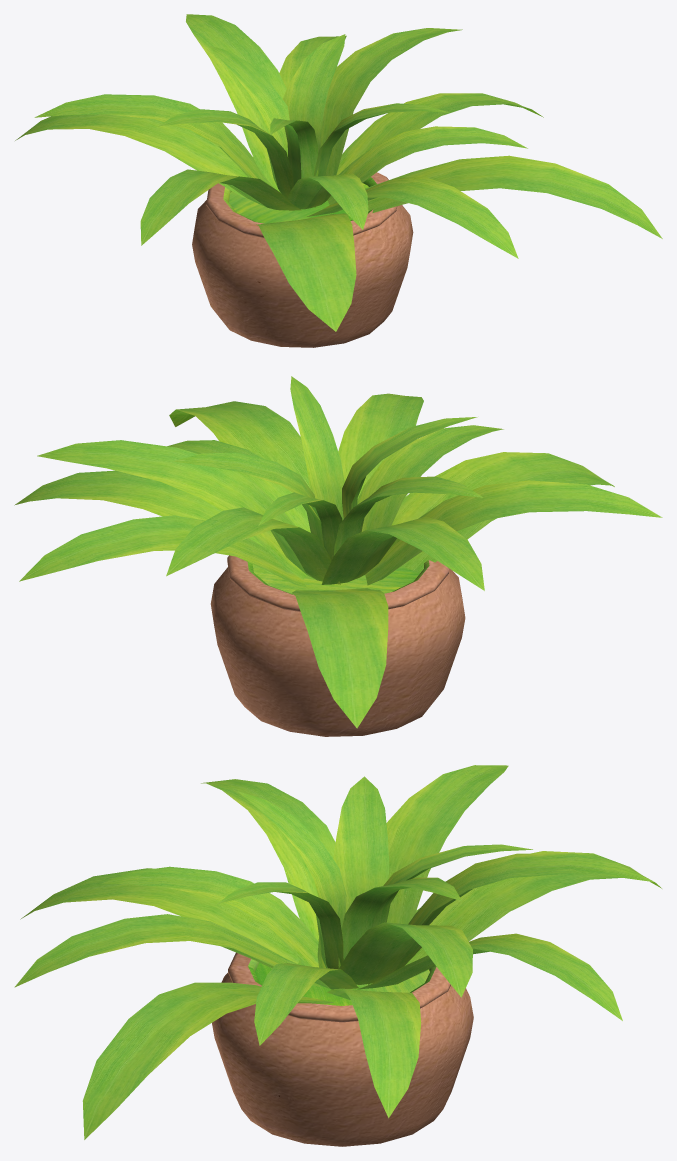
The model's file is planta.obj.
3 renders of one model, top to bottom at view 1: azimuth 30°, elevation 25°; view 2: azimuth 150°, elevation 25°; view 3: azimuth 270°, elevation 25°, orthographic. The views are drawn at different scales.
Visible parts, largest first — view 1: uploads_files_2111648_pot_Plant; view 2: uploads_files_2111648_pot_Plant; view 3: uploads_files_2111648_pot_Plant.
Part boxes in pixels (x1=…): uploads_files_2111648_pot_Plant: x1=15, y1=14, x2=662, y2=347; uploads_files_2111648_pot_Plant: x1=14, y1=376, x2=662, y2=736; uploads_files_2111648_pot_Plant: x1=14, y1=765, x2=661, y2=1146.
Bounding box in the file's own units: 5.05 × 2.3 × 4.98.
Materials: 2 (2 with a texture image).
